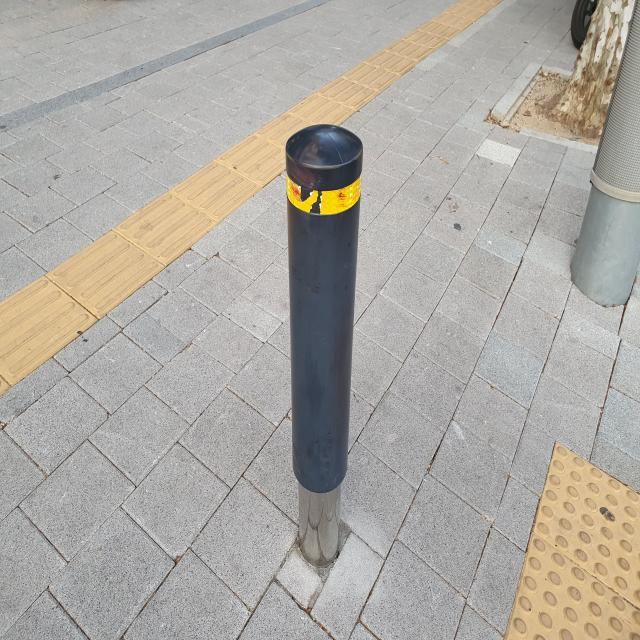pole: (285, 120, 363, 564)
